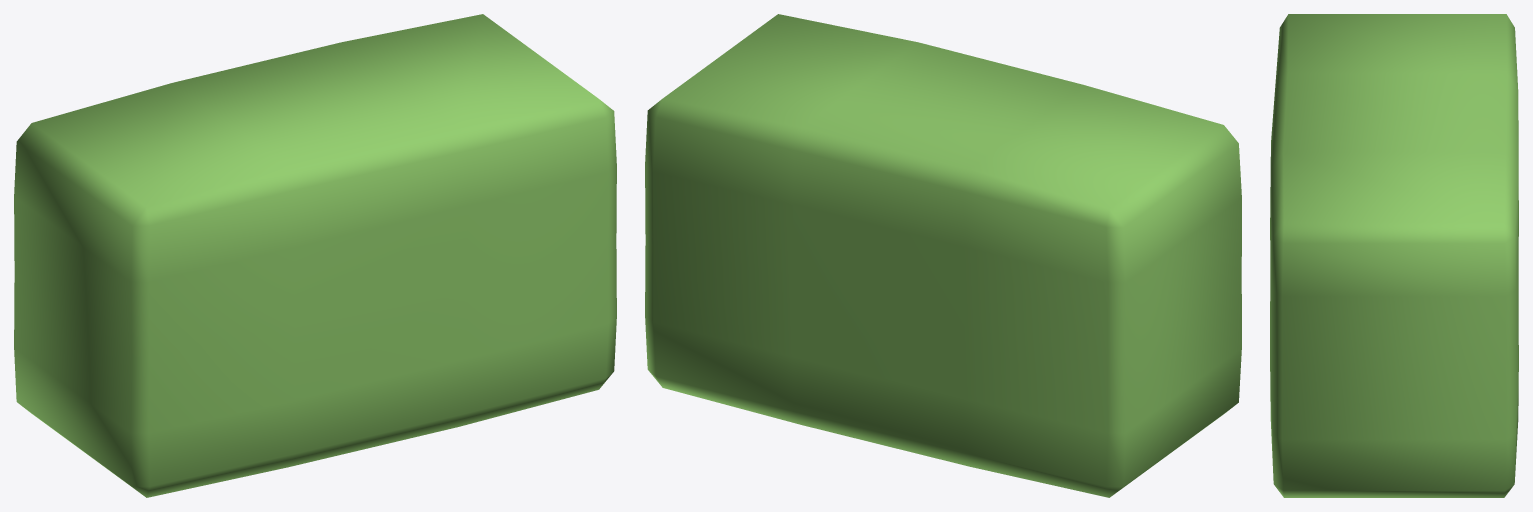
Rendered from Grass_01.fbx.
The picture shows the model from 3 angles, left to right: view 1: azimuth 30°, elevation 25°; view 2: azimuth 150°, elevation 25°; view 3: azimuth 270°, elevation 25°; orthographic projection. The views are drawn at different scales.
Visible parts, largest first — view 1: 立方体.018; view 2: 立方体.018; view 3: 立方体.018.
Part boxes in pixels (<box>): 立方体.018: <box>14,14,616,497</box>; 立方体.018: <box>645,14,1241,497</box>; 立方体.018: <box>1270,14,1518,497</box>.
Bounding box in the file's own units: 337 × 199 × 158.
